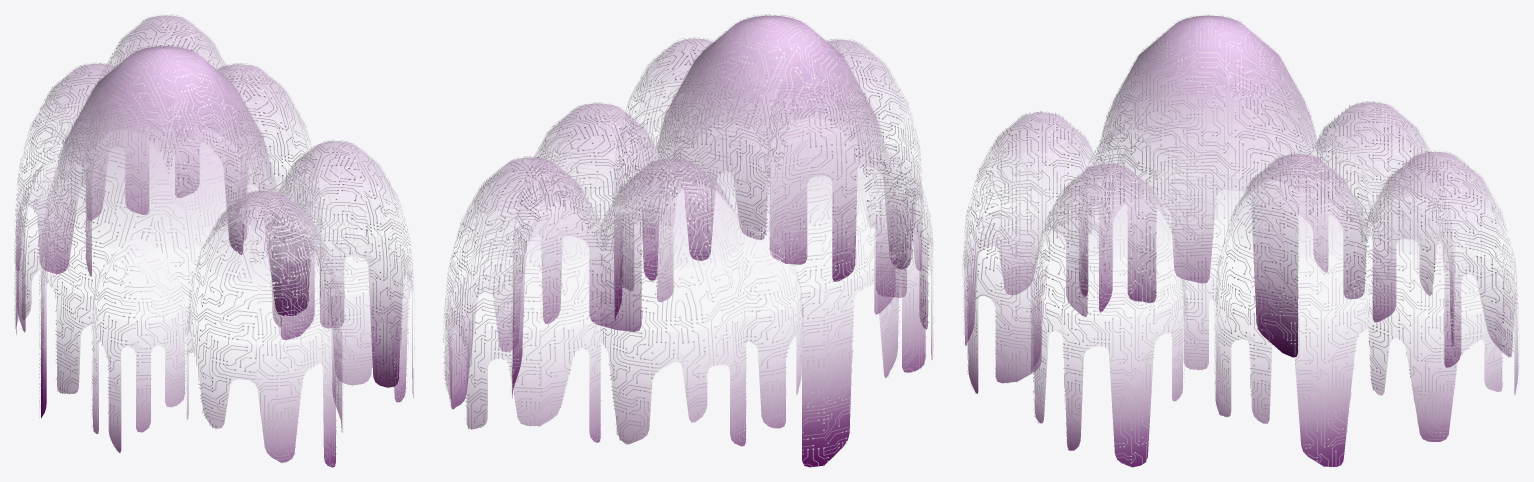
The model's file is dome01-art.glb.
The picture shows the model from 3 angles, left to right: view 1: azimuth 30°, elevation 25°; view 2: azimuth 150°, elevation 25°; view 3: azimuth 270°, elevation 25°; orthographic projection. The views are drawn at different scales.
Visible parts, largest first — view 1: Dome01_Art; view 2: Dome01_Art; view 3: Dome01_Art.
Part boxes in pixels (<box>): Dome01_Art: <box>14,14,414,467</box>; Dome01_Art: <box>443,14,933,467</box>; Dome01_Art: <box>962,14,1519,467</box>.
Size of the model in its own units: 27.64 by 33 by 44.26.
2 materials, 2 textured.
